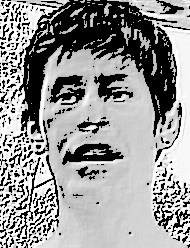nose_M_C: (75, 89, 116, 142)
